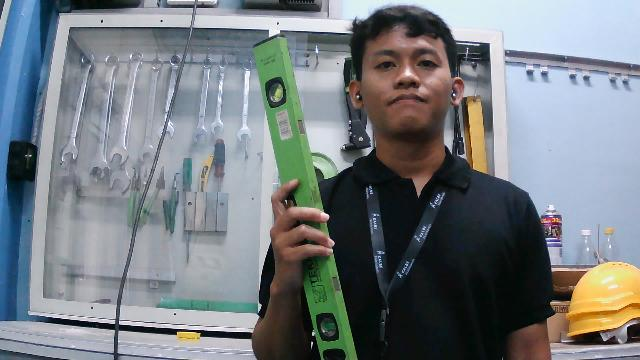water_pass: (248, 33, 362, 360)
